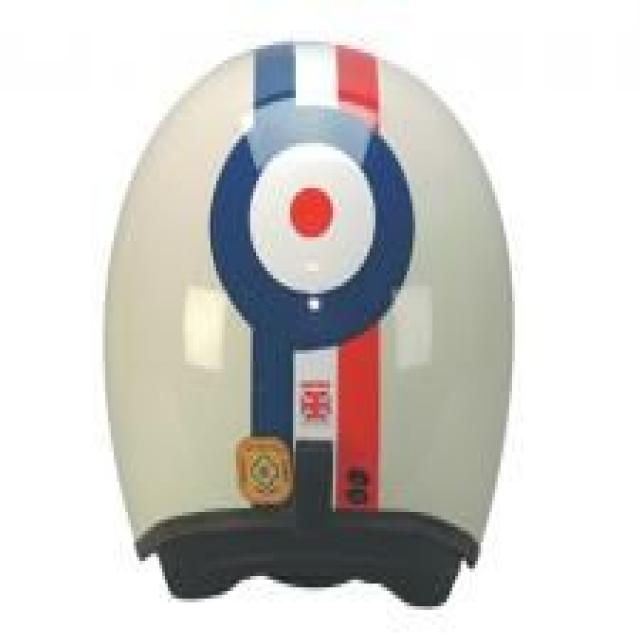Helm: (87, 14, 516, 614)
